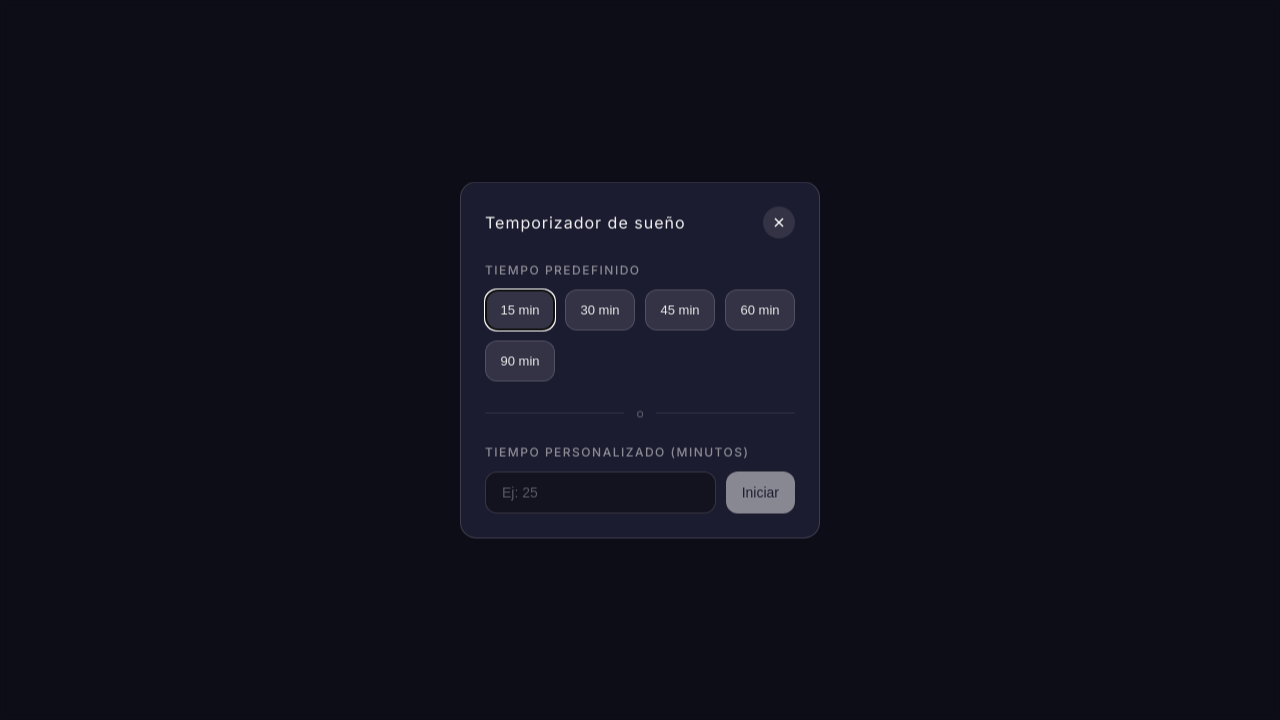
SleepTimerModal › Custom Input › should_show_error_for_invalid_input
The width and height of the screenshot is (1280, 720).
Step 1. Type "0" into the number field labelled "Tiempo personalizado (minutos)" → (600, 492), box [485, 472, 716, 514]
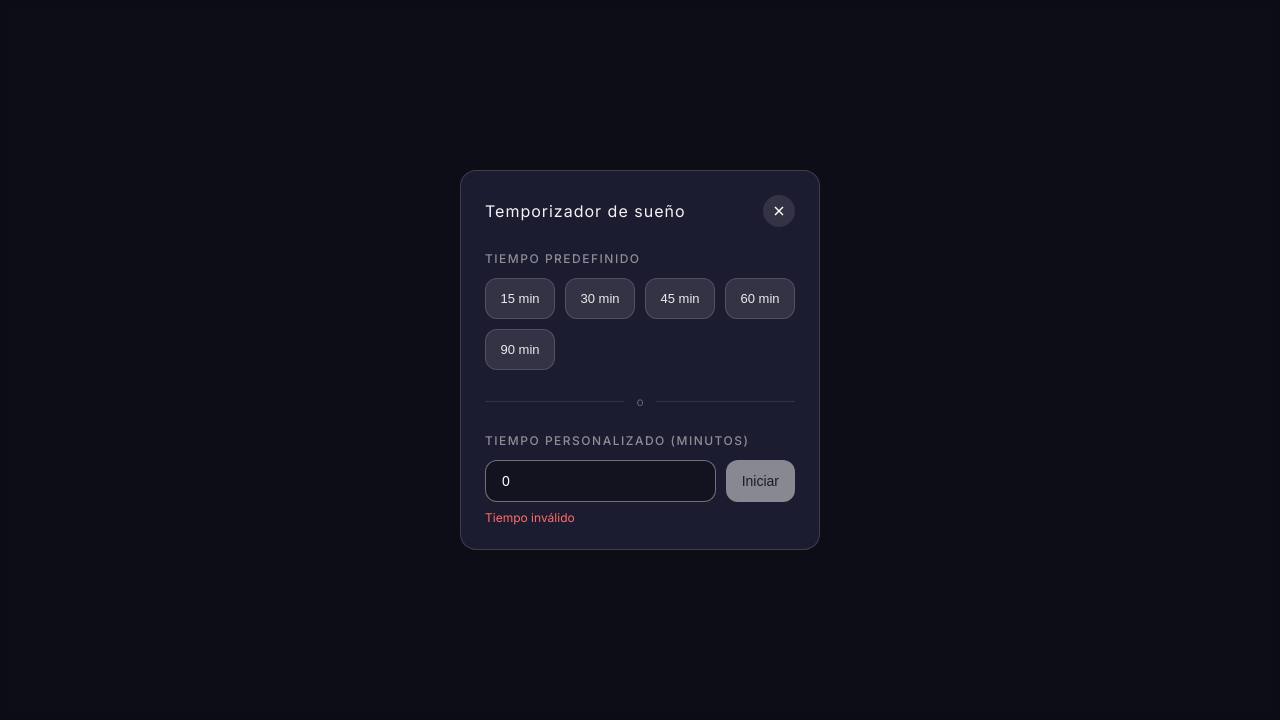
Now the message "Tiempo inválido" is shown, box [485, 510, 575, 525]
